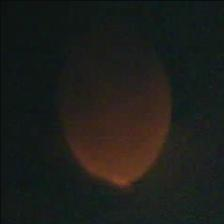fertile: (58, 34, 174, 187)
